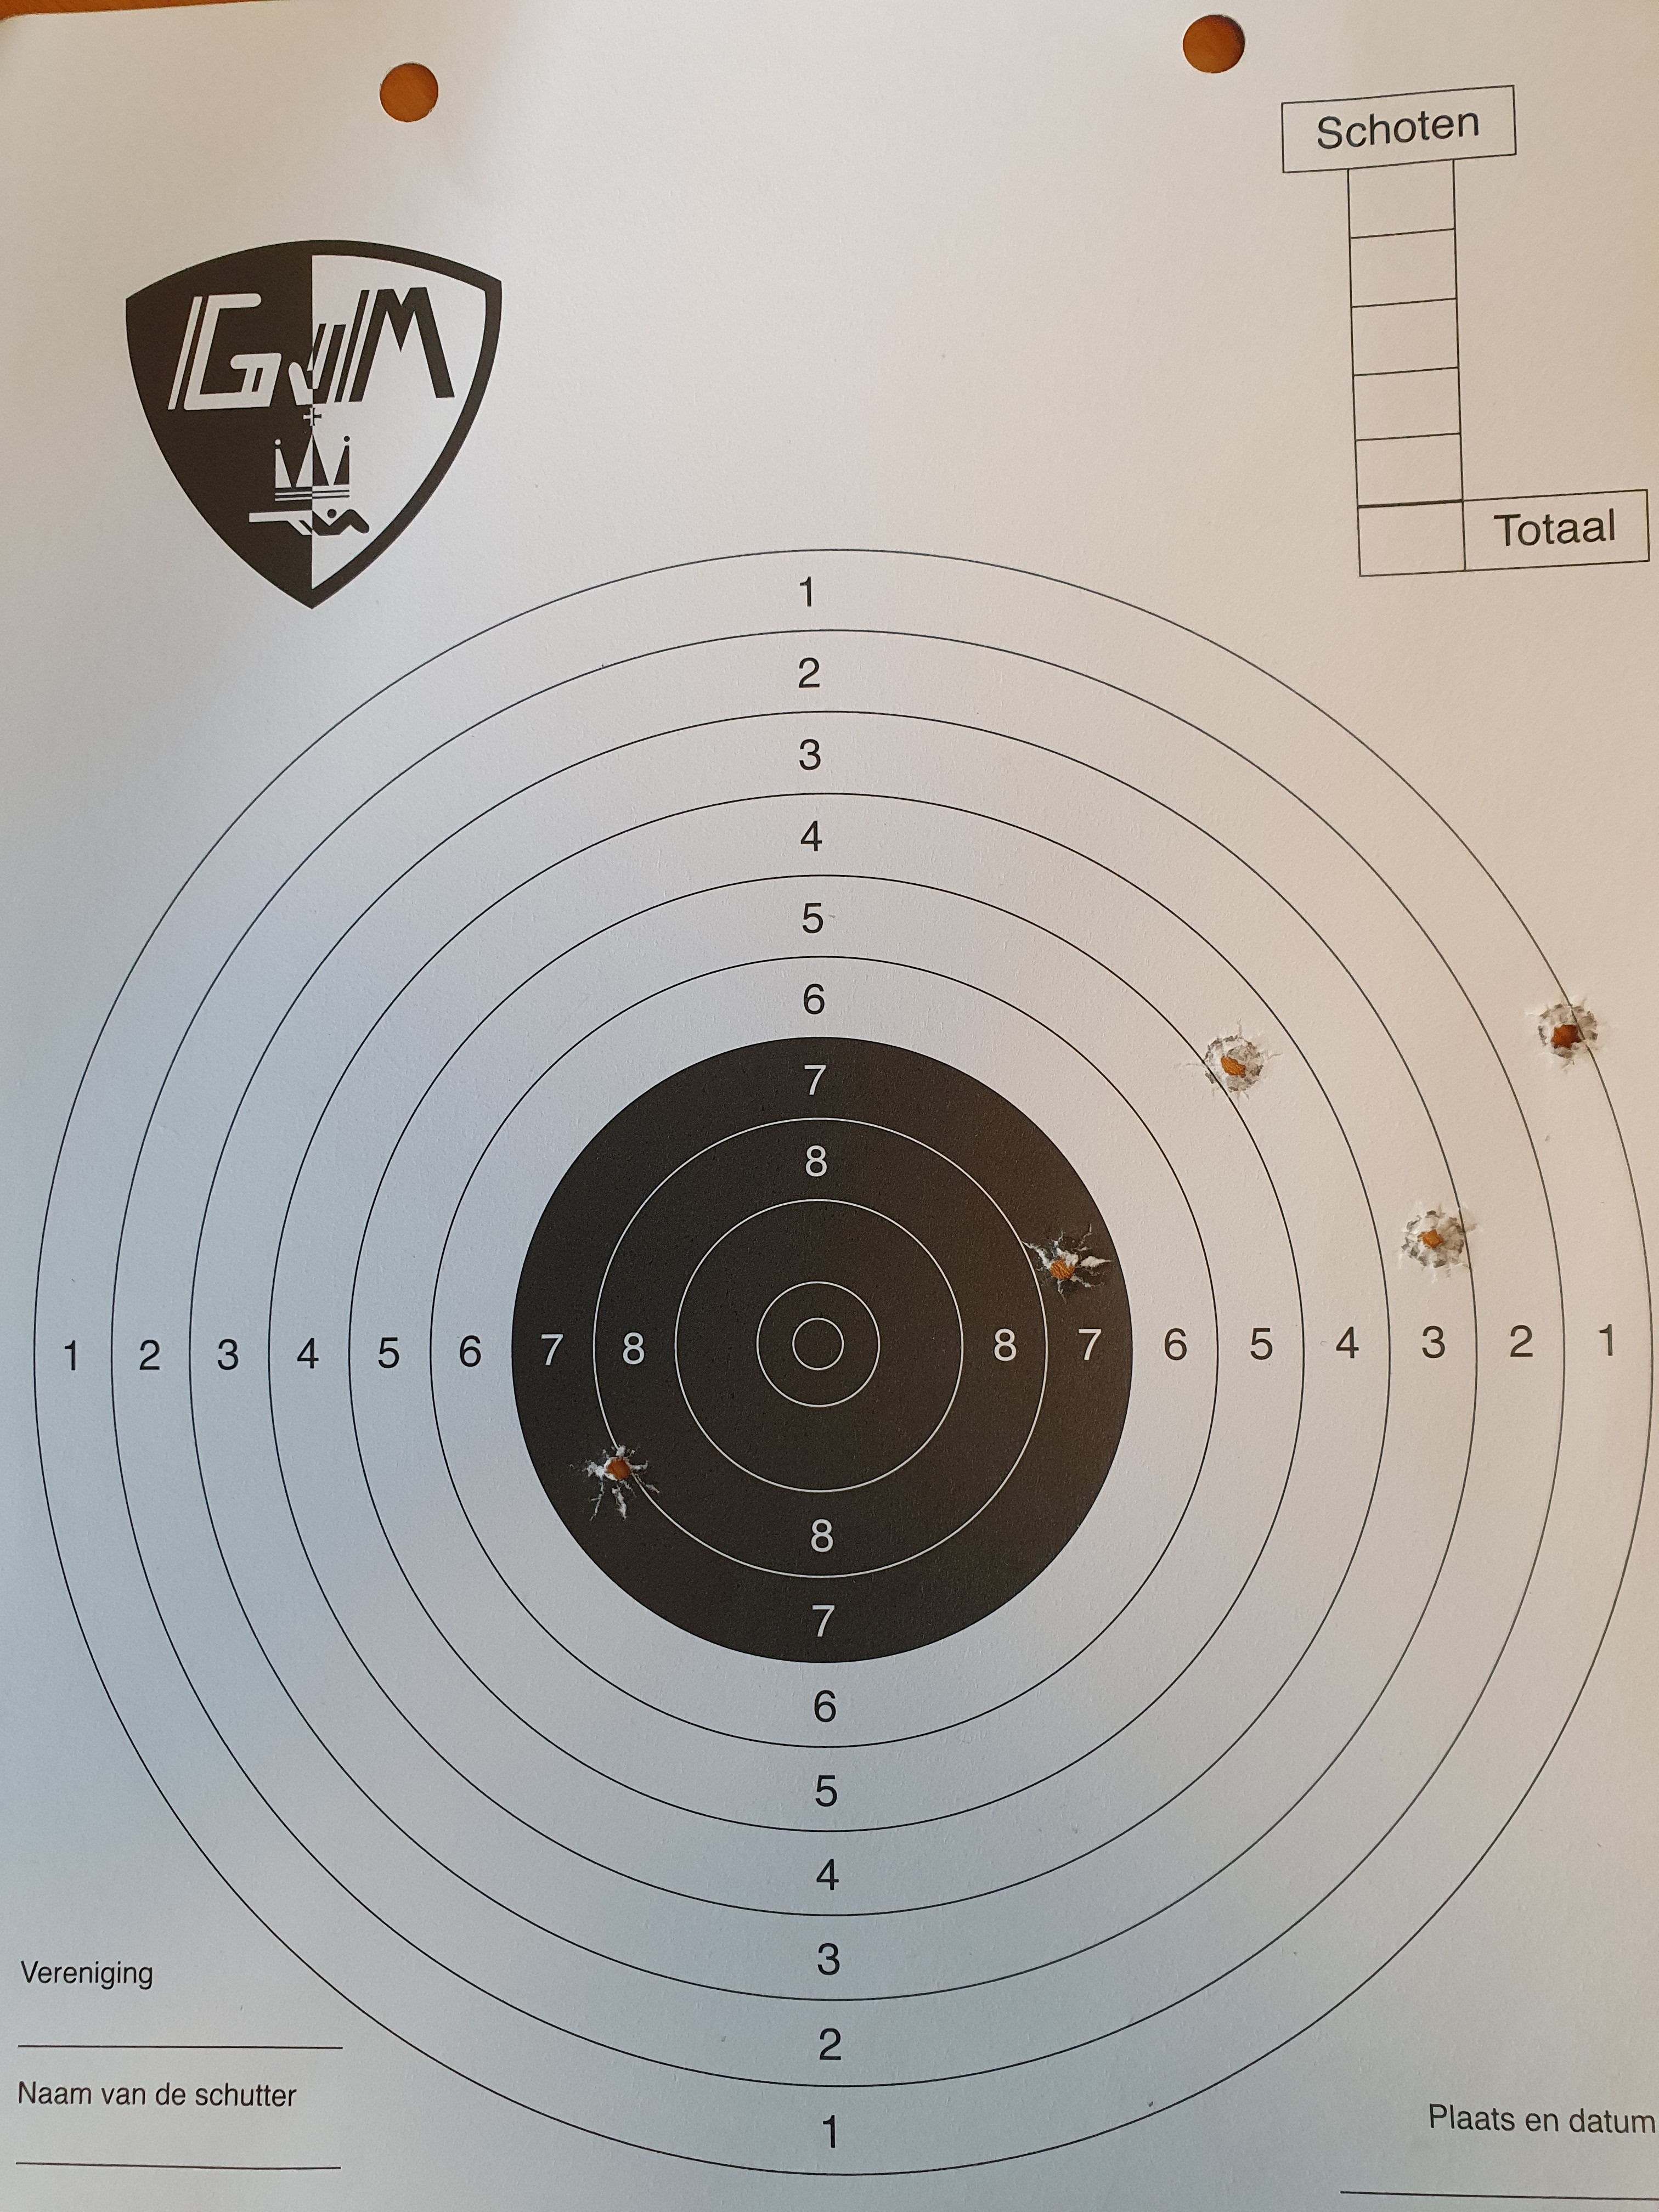center: (512, 1036, 1133, 1663)
out: (31, 549, 1652, 2177)
shot: (1173, 1015, 1284, 1103), (1016, 1221, 1115, 1306), (566, 1440, 660, 1524), (1394, 1200, 1480, 1284), (1527, 995, 1608, 1075)
target: (755, 1280, 880, 1407)
